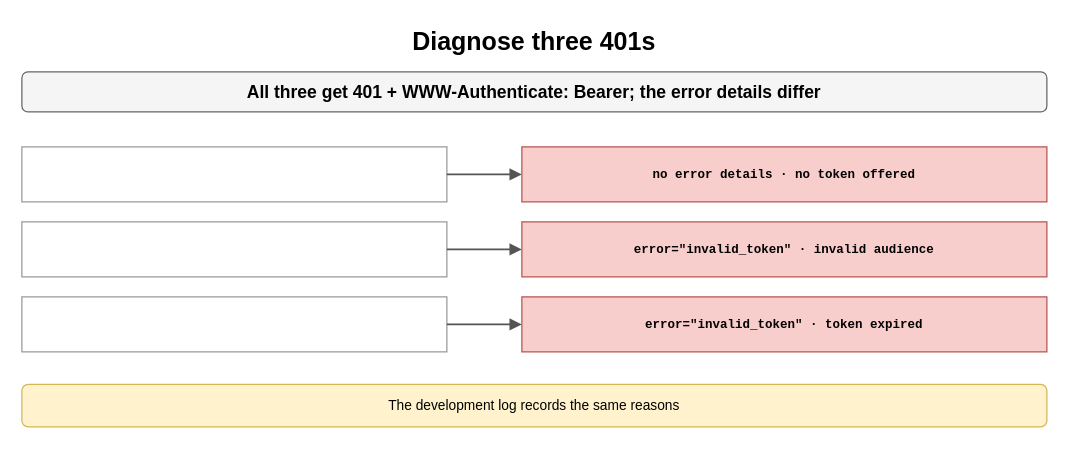
Image size: 1069x449. Some labels were removed from this diagram. Each missing label, with the centre of its shape:
A · no Authorization header: (234,174)
B · aud = https://other.example.org: (234,249)
C · past --expires-on: (234,324)
